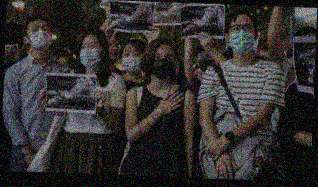with_mask: (228, 20, 256, 55), (150, 51, 176, 82), (27, 22, 54, 50), (78, 39, 103, 69), (121, 48, 142, 73), (197, 53, 216, 72)
